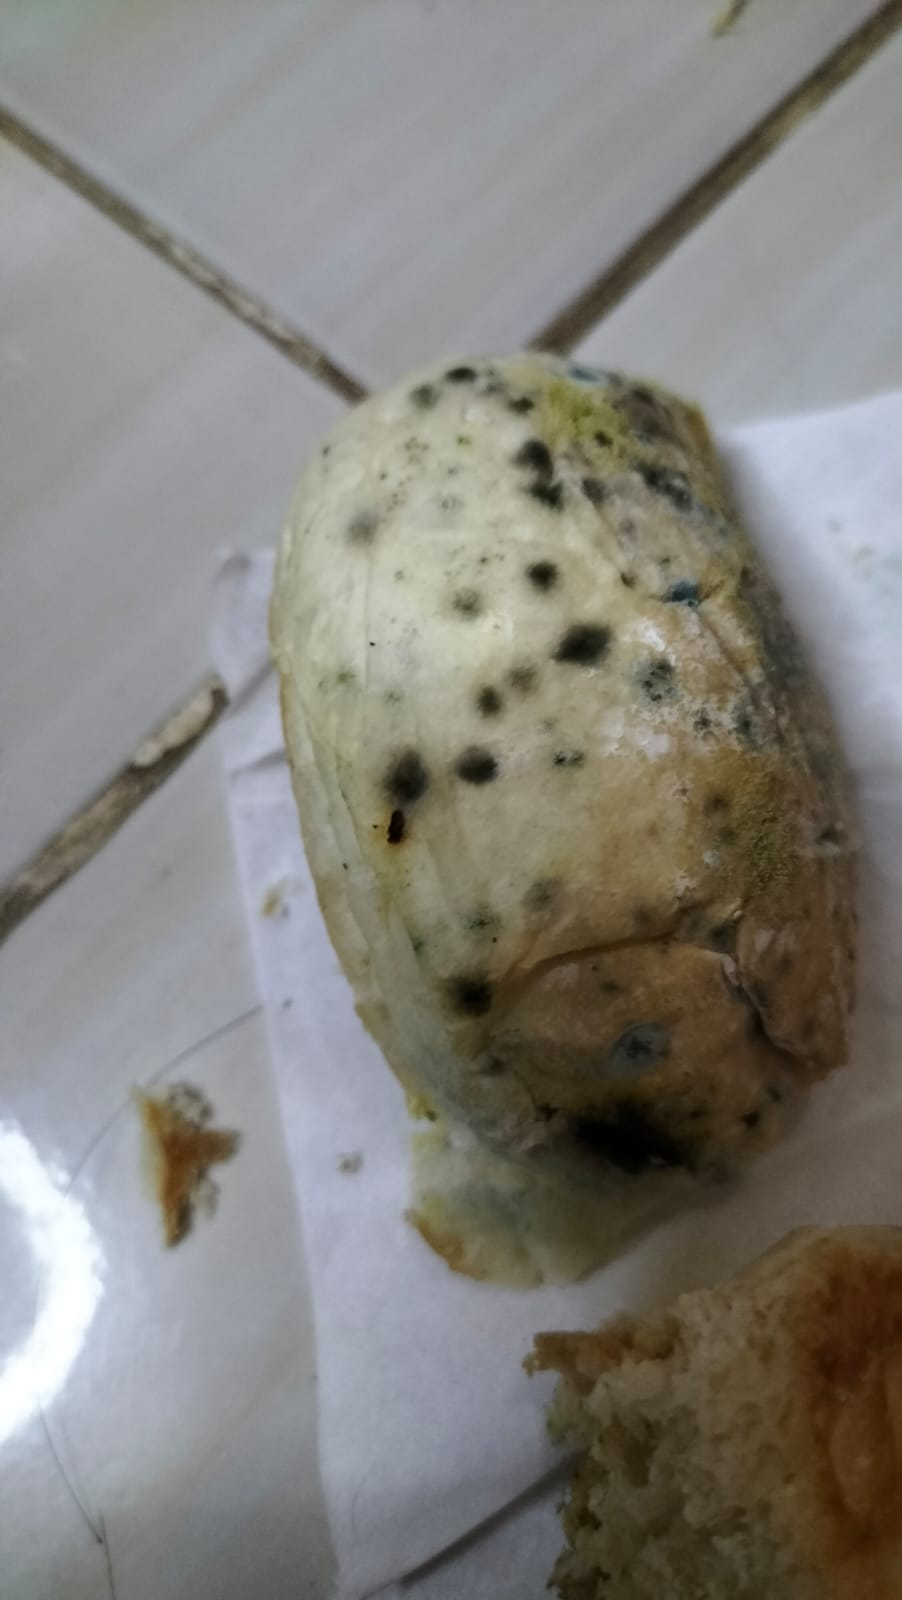mold_bread: (732, 560, 828, 782), (587, 434, 722, 535), (369, 737, 435, 860), (695, 787, 779, 873), (566, 362, 676, 424), (609, 889, 706, 956), (595, 1016, 682, 1082), (610, 549, 706, 608), (396, 360, 506, 411), (506, 438, 574, 515), (545, 618, 619, 679), (437, 962, 500, 1030), (636, 653, 689, 723), (516, 549, 572, 599), (450, 743, 506, 792), (443, 580, 497, 627), (517, 873, 564, 927), (339, 502, 389, 552), (455, 900, 504, 945), (542, 740, 598, 775), (468, 679, 512, 721), (583, 963, 626, 1002), (510, 388, 542, 419)
